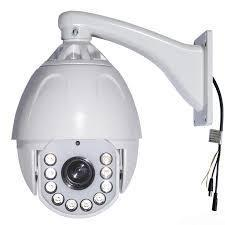maru: (10, 8, 149, 218)
